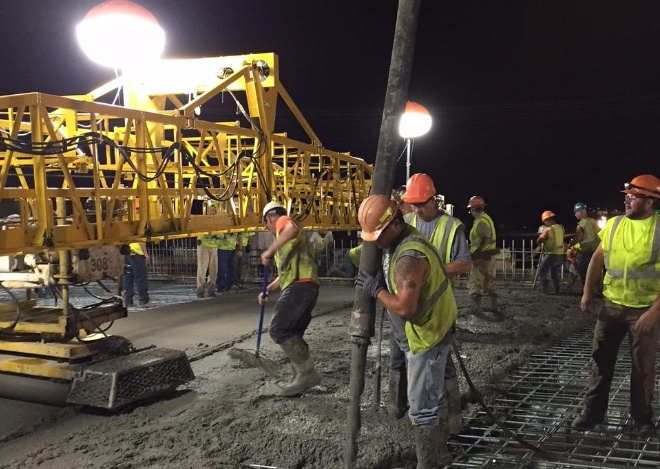blue: (572, 202, 587, 219)
red: (357, 196, 404, 247), (622, 173, 659, 220), (403, 172, 439, 220), (468, 194, 486, 216), (541, 208, 556, 227)
white: (259, 198, 285, 232)
